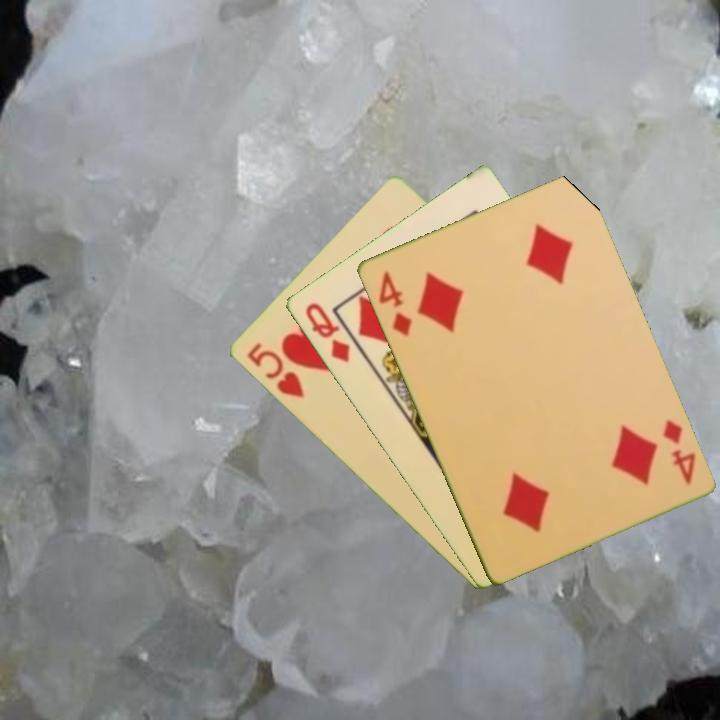4d: (374, 267, 415, 339), (659, 415, 698, 489)
5h: (242, 339, 307, 401)
Qd: (301, 299, 352, 365)
